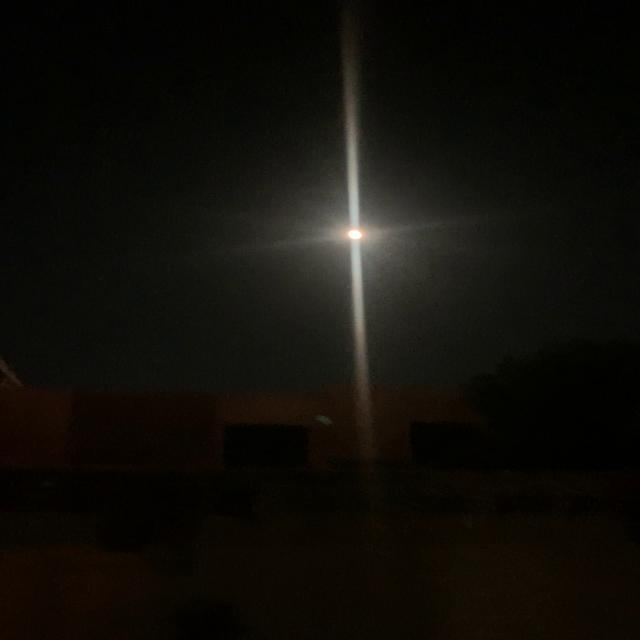moon: (332, 216, 376, 242)
